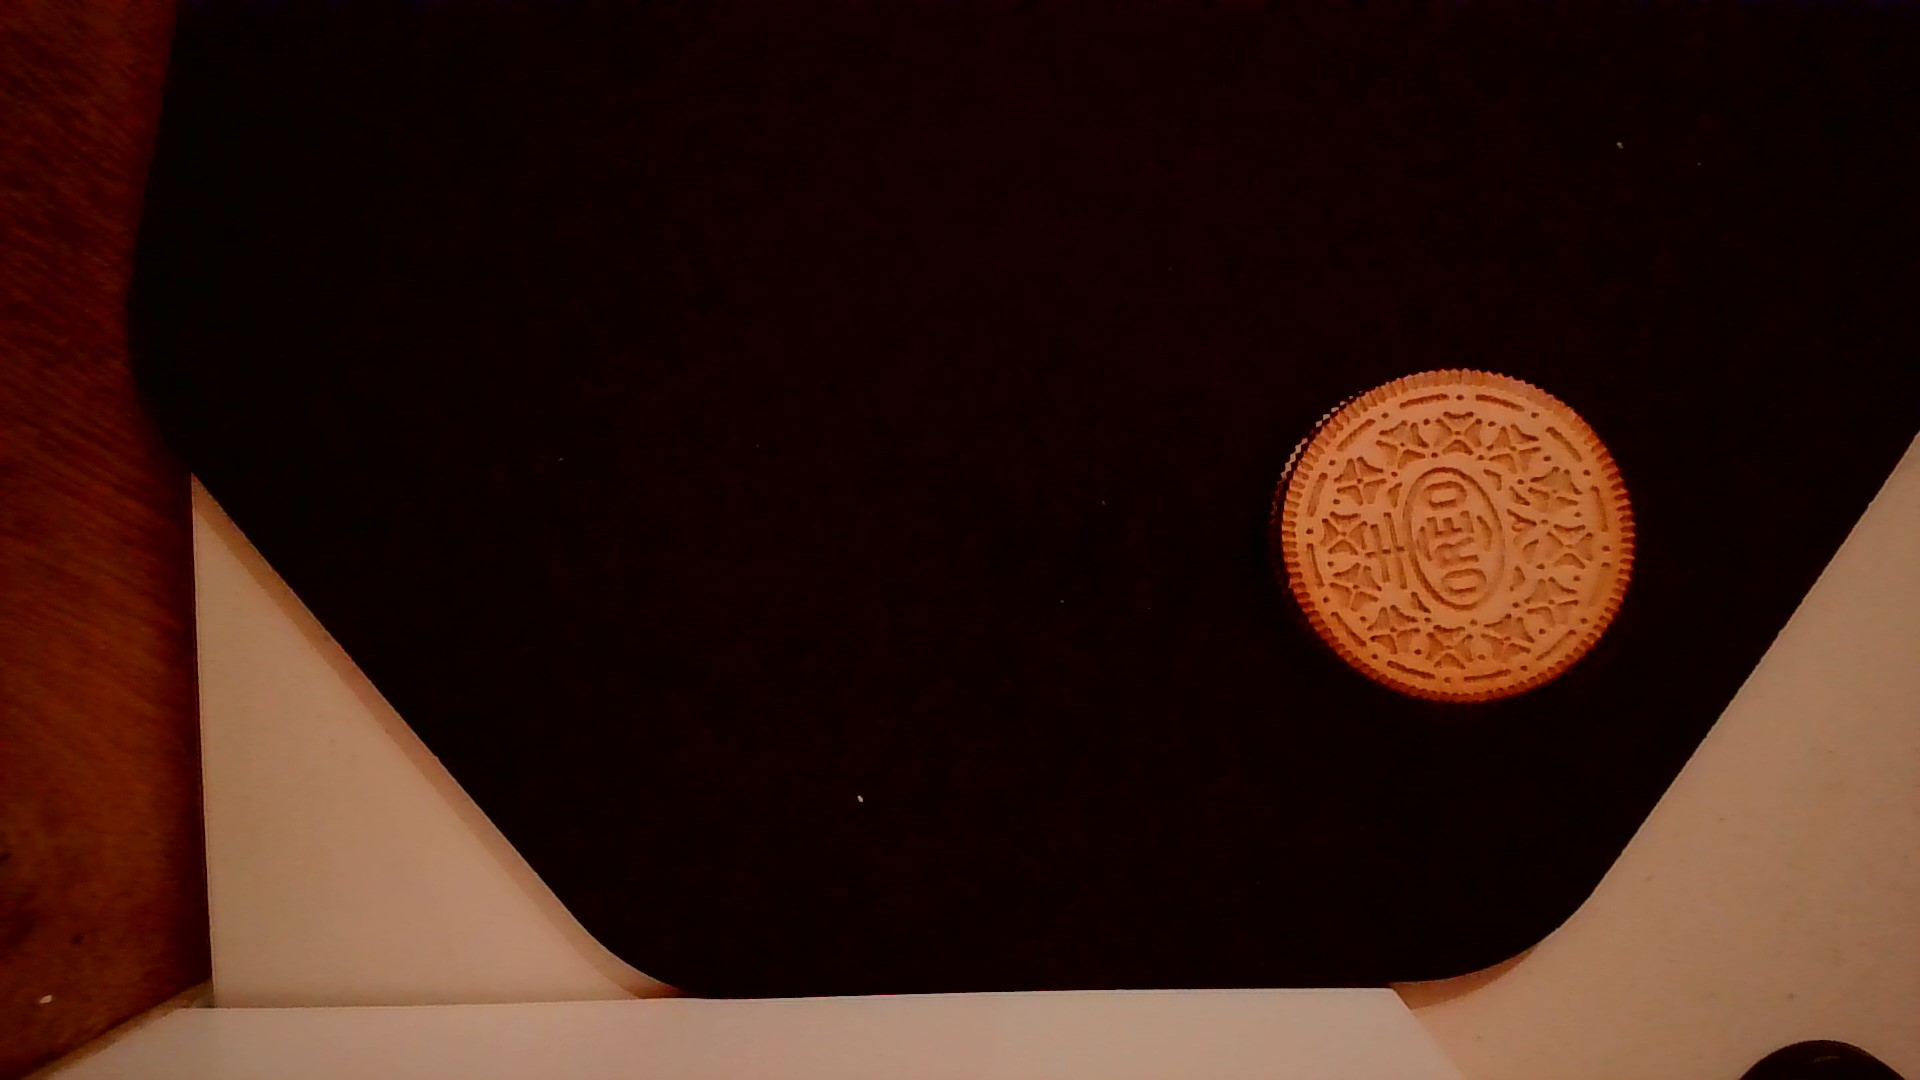Oréo: (1261, 360, 1642, 712)
